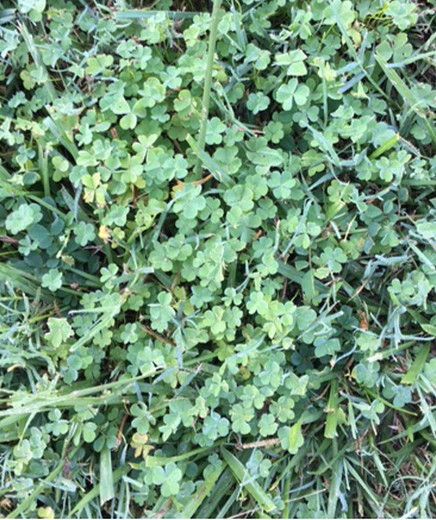oxalis: (28, 41, 384, 438)
